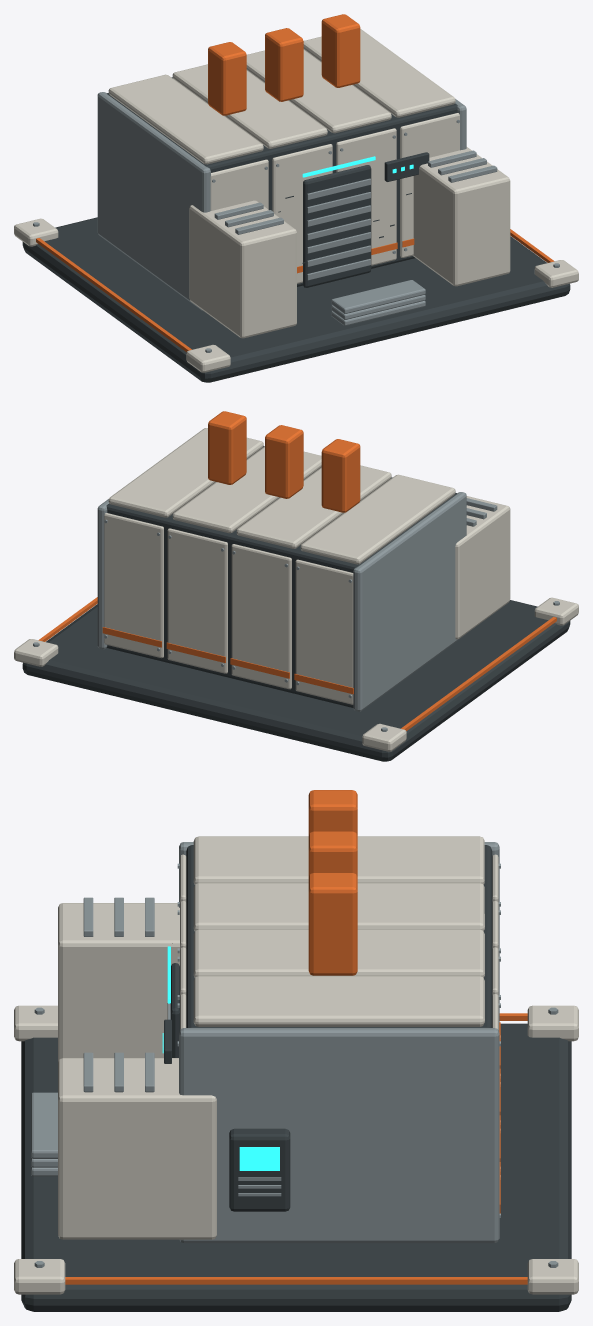
The model's file is SM_ToolFactory_Body.001.fbx.
3 views of the same model, one above another, from view 1: azimuth 30°, elevation 25°; view 2: azimuth 150°, elevation 25°; view 3: azimuth 270°, elevation 25° (orthographic). The views are drawn at different scales.
Parts seen in each view (by area): view 1: SM_ToolFactory_Body.001; view 2: SM_ToolFactory_Body.001; view 3: SM_ToolFactory_Body.001.
Boxes of the visible parts, x1=… form: SM_ToolFactory_Body.001: x1=14, y1=14, x2=578, y2=382; SM_ToolFactory_Body.001: x1=14, y1=411, x2=578, y2=761; SM_ToolFactory_Body.001: x1=14, y1=790, x2=578, y2=1311.
Size of the model in its own units: 532 by 462 by 310.
